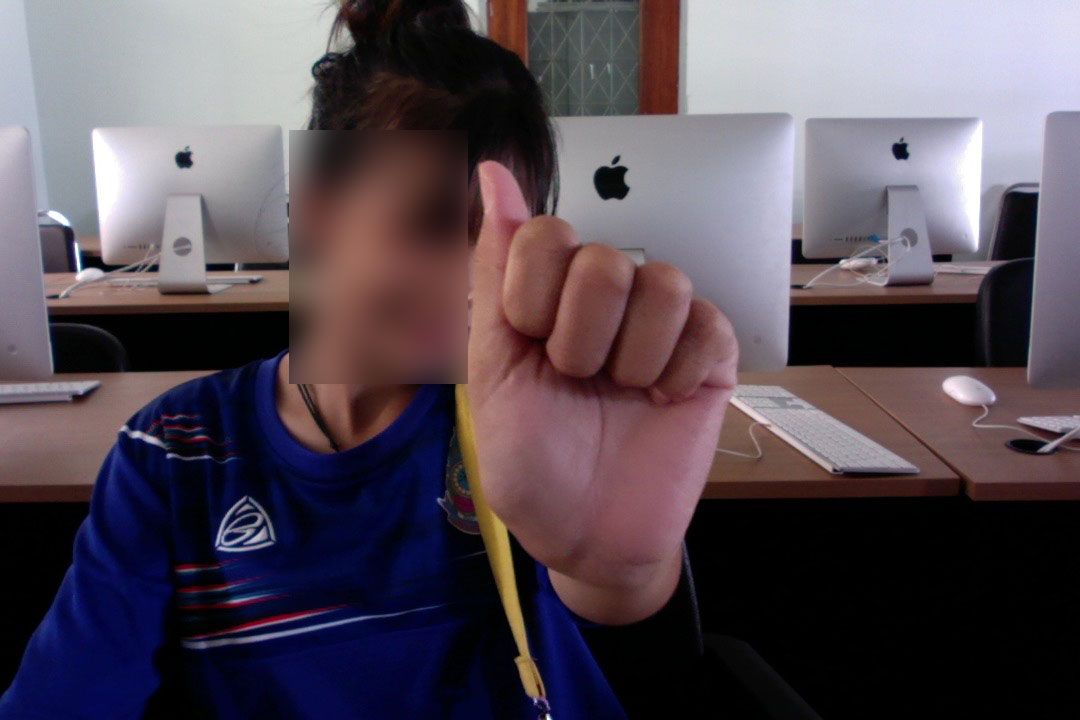or: (450, 143, 754, 602)
